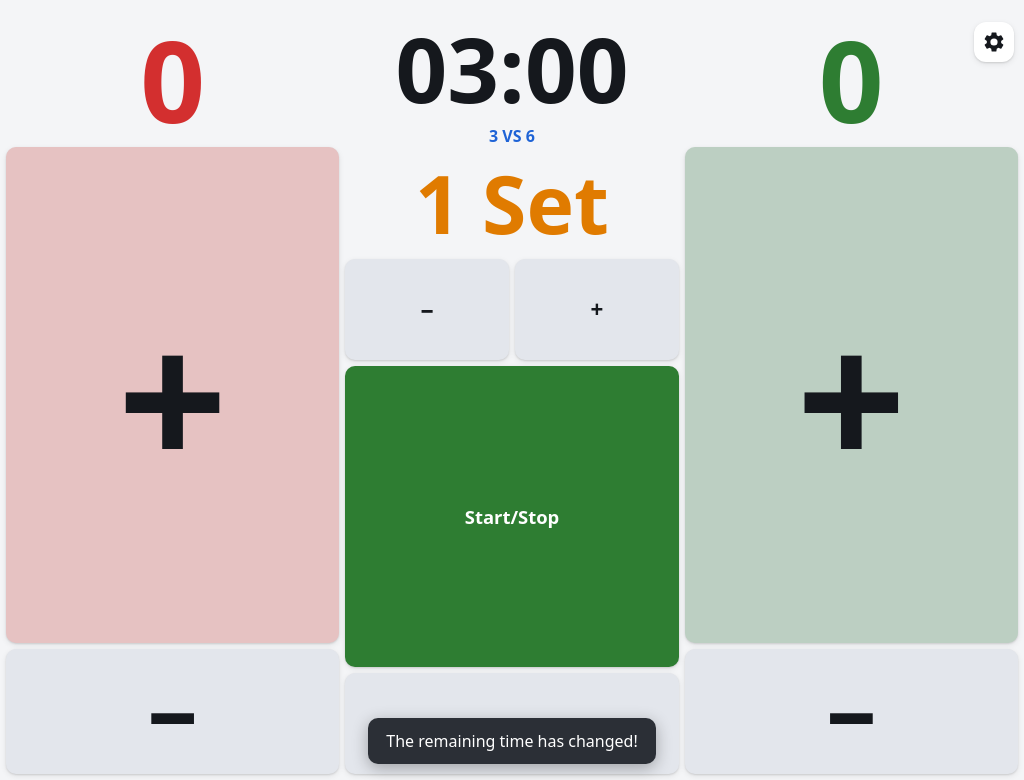
Test: scoring page › shows the match counter when enabled and hides the double button when disabled
The image size is (1024, 780).
Expected: the text "3 VS 6" is shown, [489,125,535,147]
Click the button named "match number +1" at [597, 310], box [515,259,679,360]
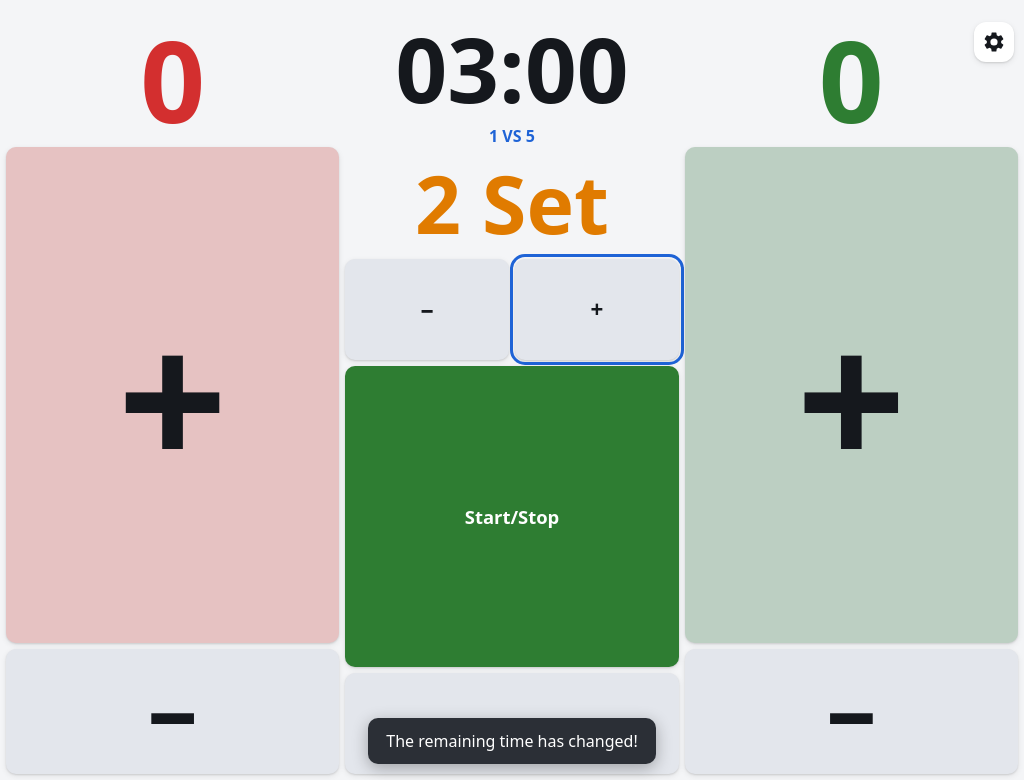
Expected: the text "1 VS 5" is shown, [489,125,535,147]
